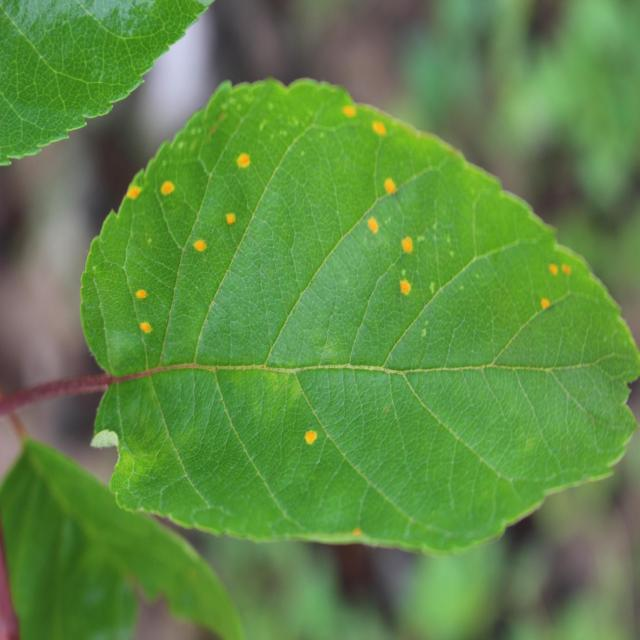Rust: (522, 282, 570, 320), (120, 167, 149, 224), (336, 88, 364, 134), (219, 200, 246, 244), (227, 139, 255, 181), (155, 163, 180, 210), (398, 231, 429, 265), (389, 267, 420, 300), (538, 250, 574, 278), (364, 111, 396, 142), (132, 316, 163, 348), (184, 236, 216, 264), (376, 167, 401, 202), (130, 264, 149, 310), (302, 415, 320, 462), (364, 210, 384, 240)
